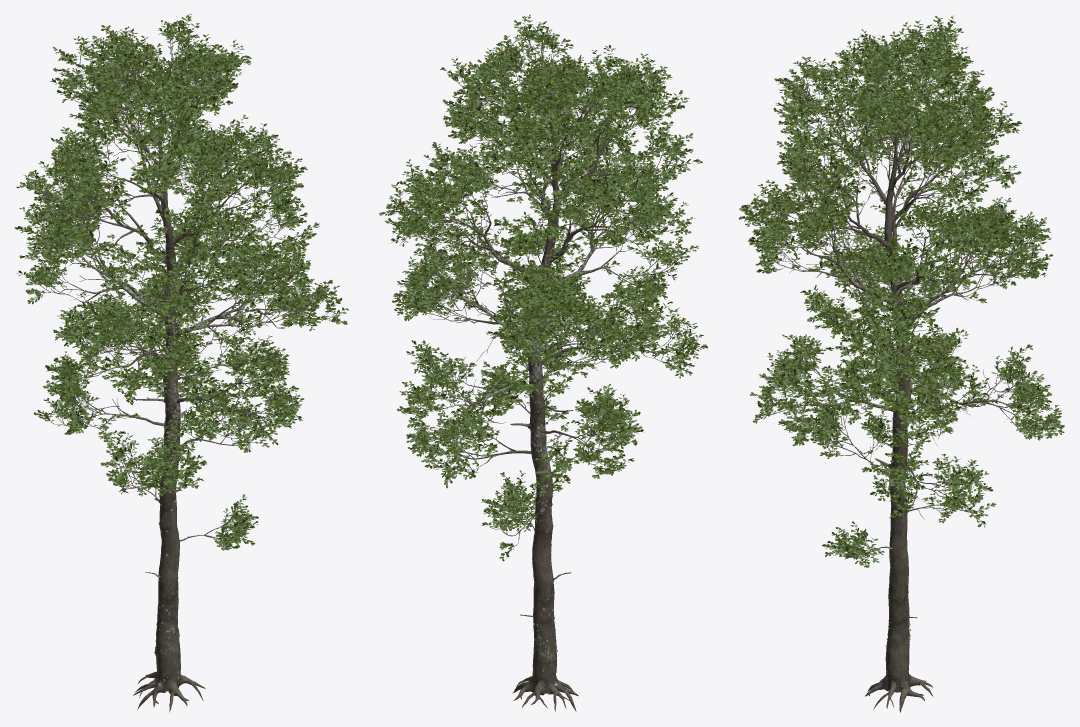
The model's file is quercus-robur-forest-hd-s41-proof.glb.
3 renders of one model, left to right at view 1: azimuth 30°, elevation 25°; view 2: azimuth 150°, elevation 25°; view 3: azimuth 270°, elevation 25°, orthographic.
Parts seen in each view (by area): view 1: ForestPlantCatalog_quercus-robur-forest-hd-s41; view 2: ForestPlantCatalog_quercus-robur-forest-hd-s41; view 3: ForestPlantCatalog_quercus-robur-forest-hd-s41.
Boxes of the visible parts, left/top/right/bottom form: ForestPlantCatalog_quercus-robur-forest-hd-s41: left=14, top=14, right=348, bottom=712; ForestPlantCatalog_quercus-robur-forest-hd-s41: left=379, top=14, right=707, bottom=711; ForestPlantCatalog_quercus-robur-forest-hd-s41: left=738, top=15, right=1064, bottom=712.
Size of the model in its own units: 7.24 by 16 by 7.03.
17 materials, 17 textured.
